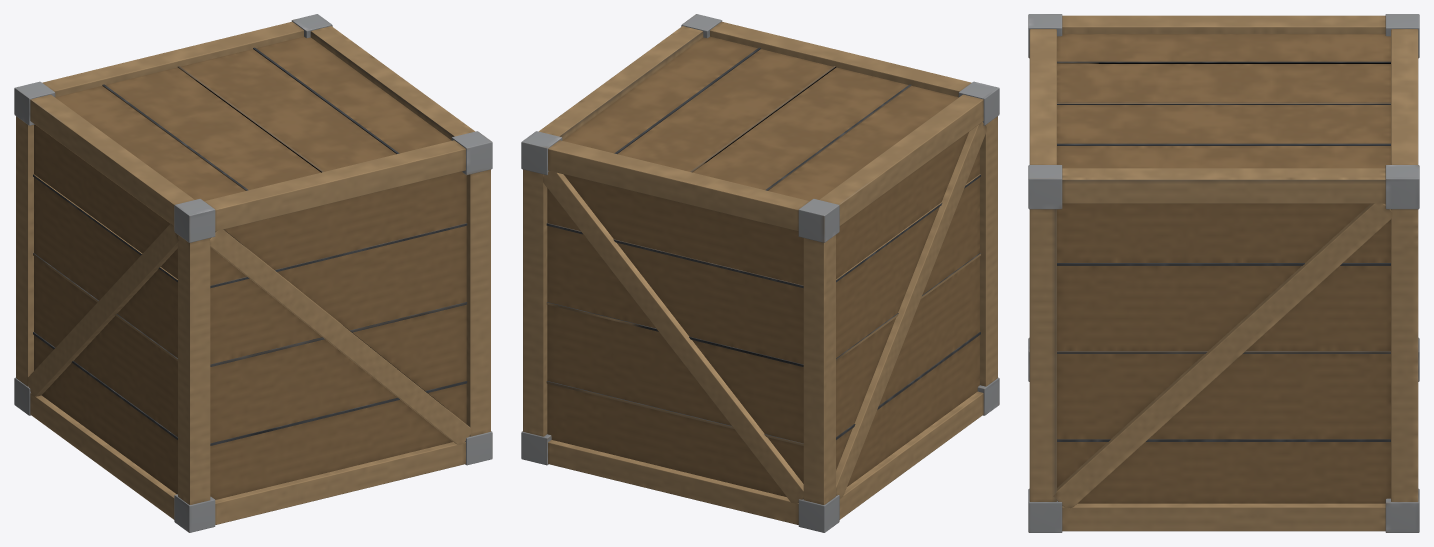
The model's file is crate.fbx.
3 views of the same model, side by side, from view 1: azimuth 30°, elevation 25°; view 2: azimuth 150°, elevation 25°; view 3: azimuth 270°, elevation 25° (orthographic). The views are drawn at different scales.
Parts seen in each view (by area): view 1: crate; view 2: crate; view 3: crate.
Boxes of the visible parts, box(x1,y1,x2,y2) form: crate: box(14, 14, 492, 532); crate: box(521, 14, 999, 532); crate: box(1028, 14, 1419, 532).
Size of the model in its own units: 0.906 by 0.906 by 0.906.
